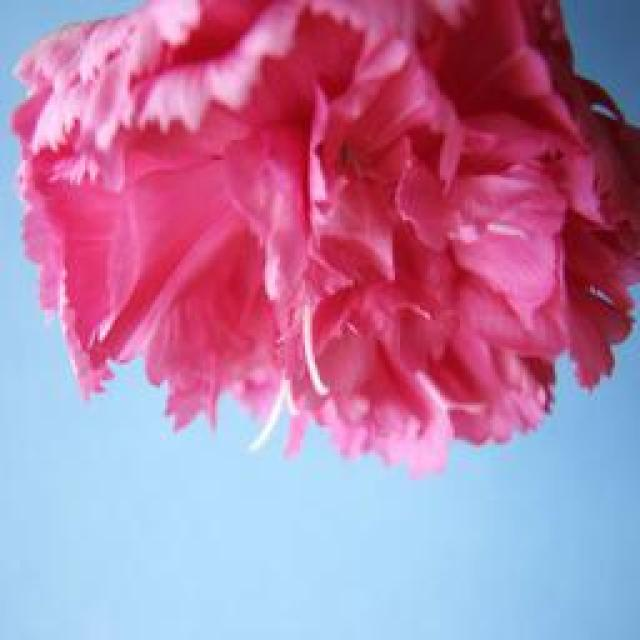carnation: (0, 0, 640, 453)
